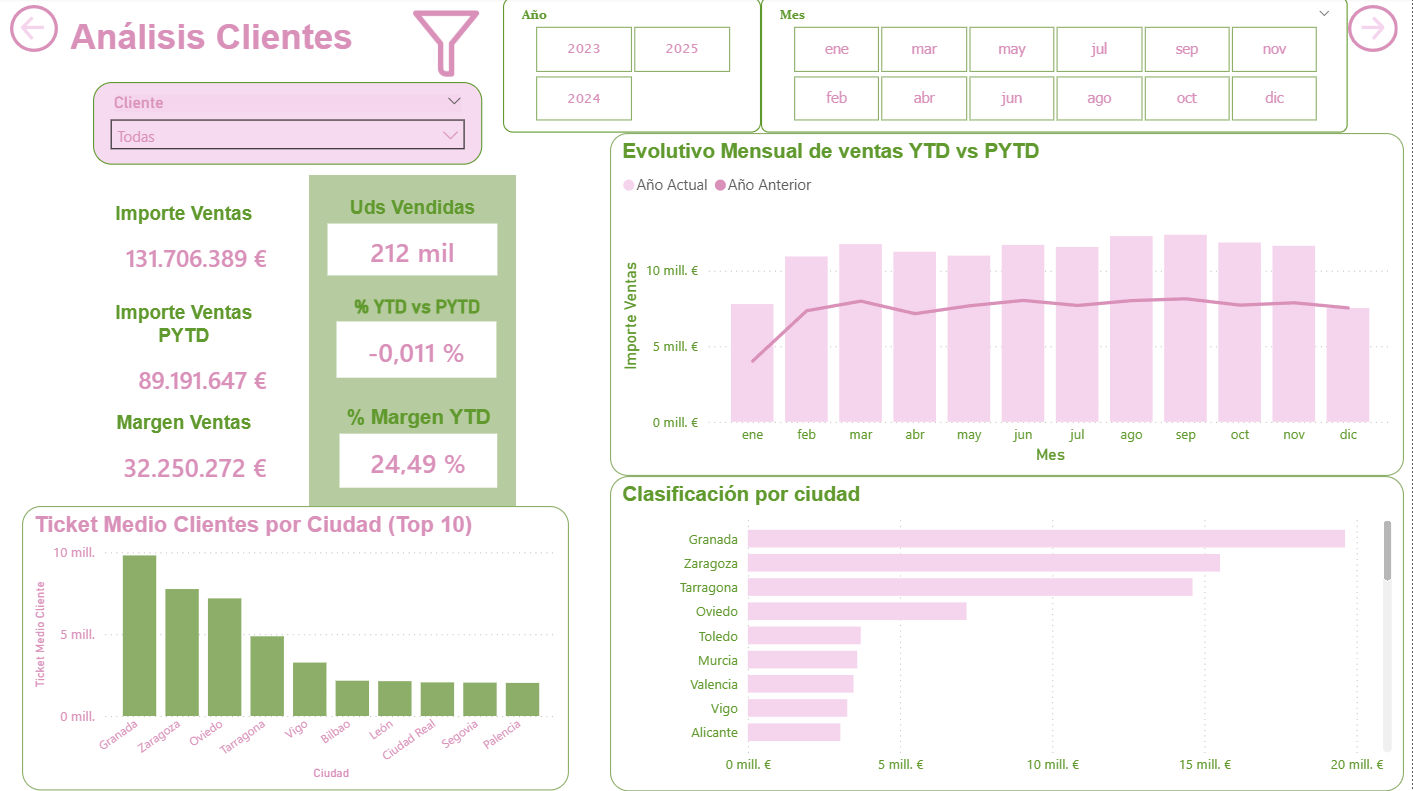

The dashboard page shown, as its layout file describes it:
{"tool":"powerbi","page":{"name":"Análisis Clientes","canvas":[1280,720],"ordinal":1},"visuals":[{"type":"slicer","fields":{"Values":["Dim_Calendar.Fecha.Variación.Jerarquía de fechas.Año"]},"box":[456.1,0,234,123.3],"z":0},{"type":"slicer","fields":{"Values":["Dim_Calendar.MesCorto"]},"box":[690.1,0,532.3,123.3],"z":1000},{"type":"lineStackedColumnComboChart","title":"Evolutivo Mensual de ventas  YTD vs PYTD","fields":{"Y":["Medidas.Importe Ventas"],"Y2":["Medidas.Importe Ventas PYTD"],"Category":["Dim_Calendar.MesCorto"]},"box":[553.4,123.5,719.8,311.2],"z":2000},{"type":"clusteredBarChart","title":"Clasificación por ciudad","fields":{"Category":["CCAA.Ciudad"],"Y":["Medidas.Importe Ventas"]},"box":[553.1,434.4,720,285.6],"z":3000},{"type":"shape","box":[280.1,161.5,187.7,300.5],"z":4000},{"type":"slicer","fields":{"Values":["Dim_Customers.Descrip_Cliente"]},"box":[84.3,77.1,352.7,75.3],"z":5000},{"type":"cardVisual","title":"Uds Vendidas","fields":{"Data":["Medidas.Unidades Vendidas"]},"box":[292,180.5,164.1,78],"z":6000},{"type":"cardVisual","title":"% YTD vs PYTD","fields":{"Data":["Medidas.% Margen vs Importe YTD vs PYTD"]},"box":[300.2,270.2,156,80.7],"z":7000},{"type":"cardVisual","title":"% Margen YTD","fields":{"Data":["Medidas.% Margen vs Importe YTD"]},"box":[302.9,370,153.2,80.7],"z":8000},{"type":"tableEx","fields":{"Values":["Medidas.Importe Ventas"]},"box":[80.7,180.5,180.5,96.1],"z":9000},{"type":"tableEx","fields":{"Values":["Medidas.Importe Ventas PYTD"]},"box":[80.7,270.2,180.5,117],"z":10000},{"type":"tableEx","fields":{"Values":["Medidas.Margen Ventas"]},"box":[80.7,370,180.5,92.5],"z":11000},{"type":"textbox","box":[59.3,13.6,275.3,63.2],"z":12000},{"type":"columnChart","title":"Ticket Medio Clientes por Ciudad (Top 10)","fields":{"Category":["Dim_Customers.Zona"],"Y":["Medidas.Ticket Medio Cliente"]},"box":[19.9,461.6,496,258.4],"z":13000},{"type":"image","box":[374.5,7.3,59.8,69.8],"z":14000},{"type":"actionButton","box":[1222.4,7.3,45.3,42.6],"z":14001},{"type":"actionButton","box":[9.1,7.3,43.5,42.6],"z":14002}]}

Visuals, with their boxes in screenshot pixels (x1, y1, x2, y2), scaled from the page's 1280x720 canvas onto the 1413x791 screenshot:
slicer - Dim_Calendar.Fecha.Variación.Jerarquía de fechas.Año: <bbox>503, 0, 762, 135</bbox>
slicer - Dim_Calendar.MesCorto: <bbox>762, 0, 1349, 135</bbox>
"Evolutivo Mensual de ventas  YTD vs PYTD" lineStackedColumnComboChart: <bbox>611, 136, 1405, 478</bbox>
"Clasificación por ciudad" clusteredBarChart: <bbox>611, 477, 1405, 790</bbox>
shape: <bbox>309, 177, 516, 508</bbox>
slicer - Dim_Customers.Descrip_Cliente: <bbox>93, 85, 482, 167</bbox>
"Uds Vendidas" cardVisual: <bbox>322, 198, 503, 284</bbox>
"% YTD vs PYTD" cardVisual: <bbox>331, 297, 504, 386</bbox>
"% Margen YTD" cardVisual: <bbox>334, 406, 503, 495</bbox>
tableEx - Medidas.Importe Ventas: <bbox>89, 198, 288, 304</bbox>
tableEx - Medidas.Importe Ventas PYTD: <bbox>89, 297, 288, 425</bbox>
tableEx - Medidas.Margen Ventas: <bbox>89, 406, 288, 508</bbox>
textbox: <bbox>65, 15, 369, 84</bbox>
"Ticket Medio Clientes por Ciudad (Top 10)" columnChart: <bbox>22, 507, 570, 790</bbox>
image: <bbox>413, 8, 479, 85</bbox>
actionButton: <bbox>1349, 8, 1399, 55</bbox>
actionButton: <bbox>10, 8, 58, 55</bbox>
